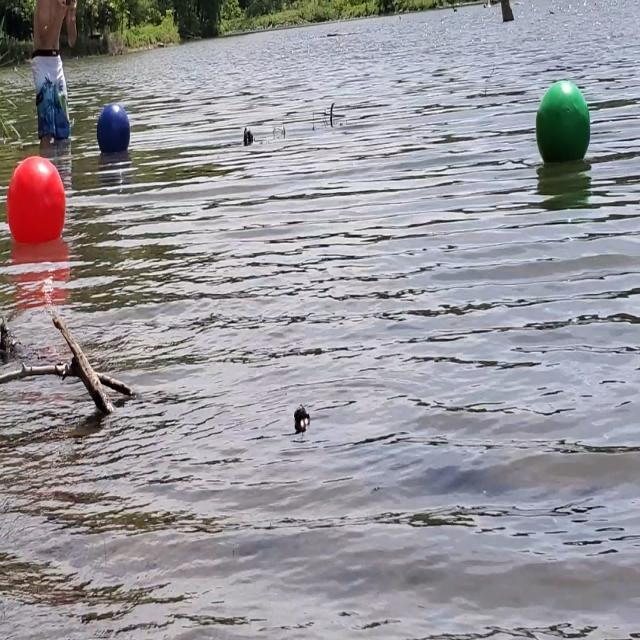buoy: (3, 153, 68, 253), (532, 76, 592, 175), (95, 101, 132, 162)
